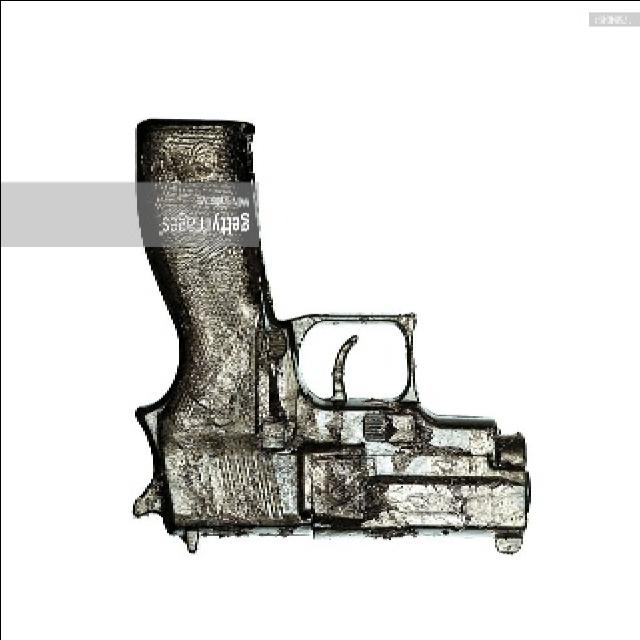handgun: (125, 118, 539, 568)
